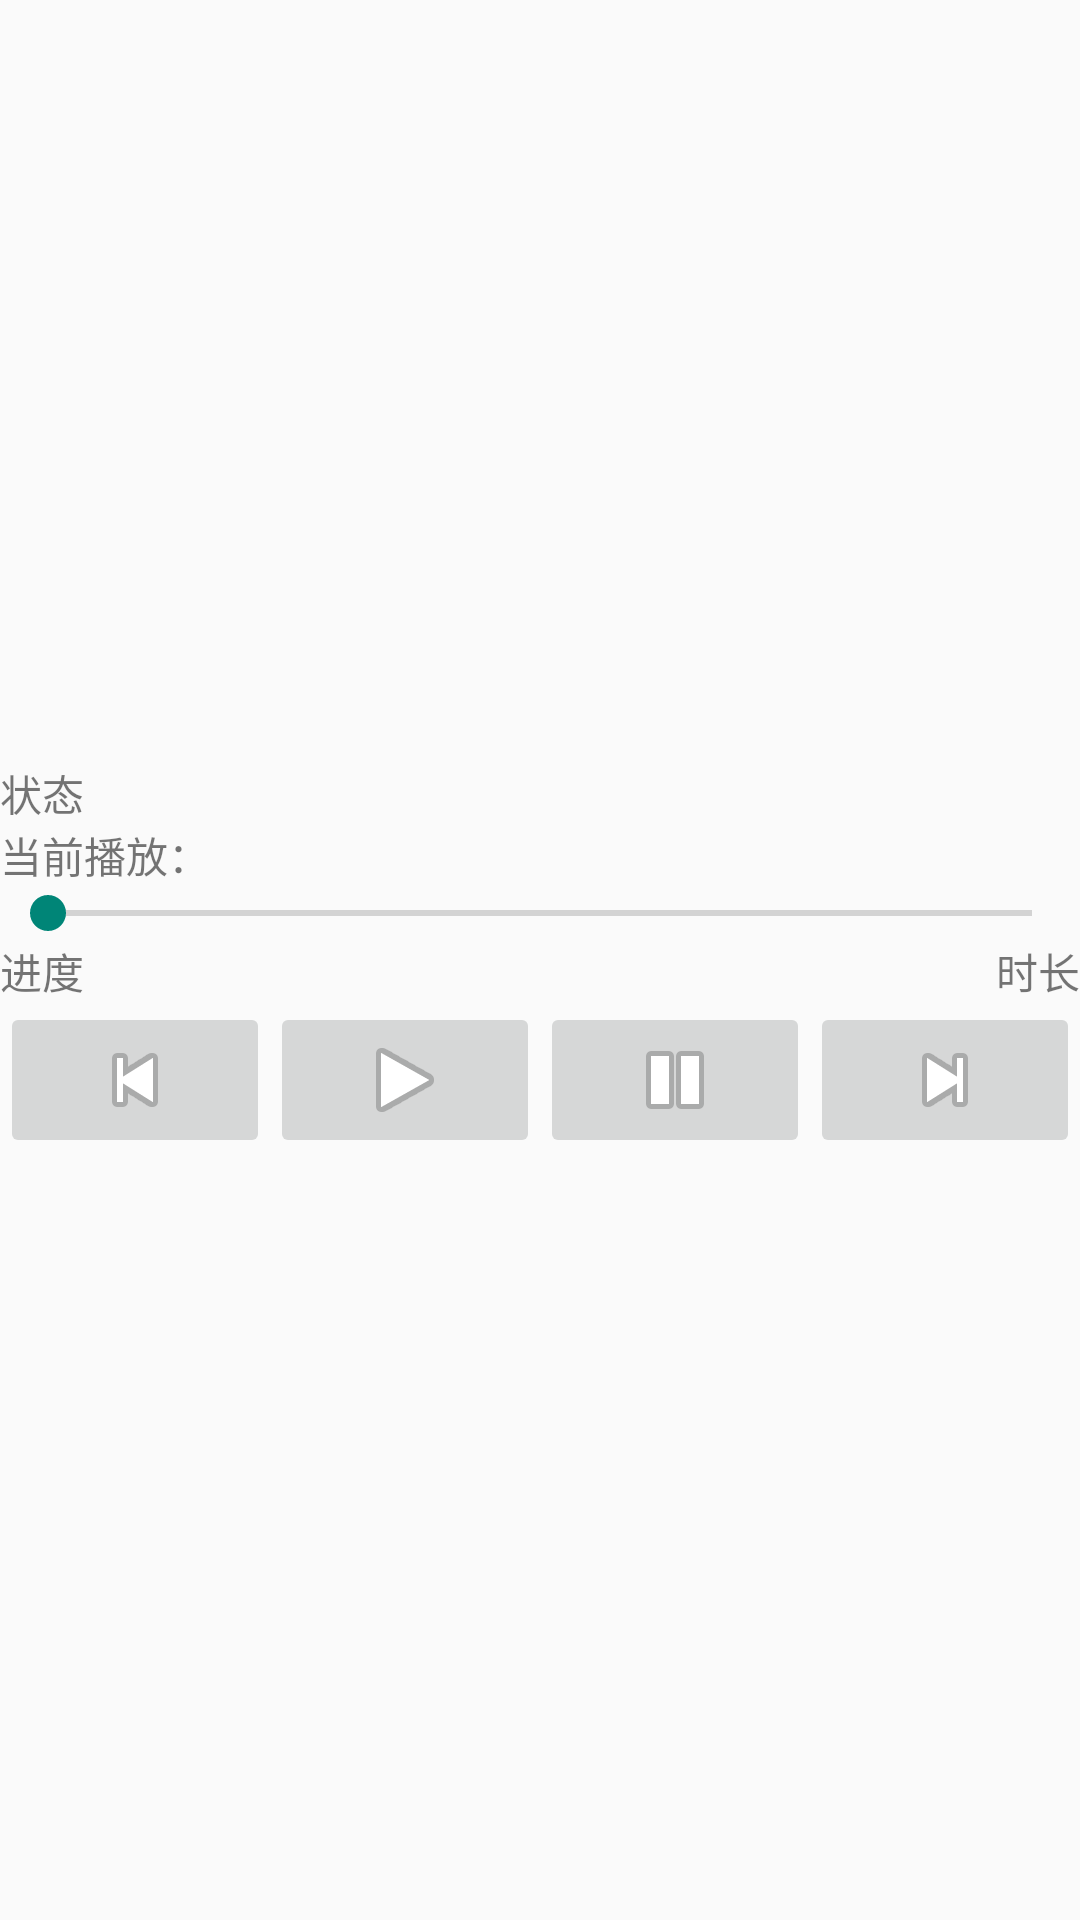

Icons on this 1080*1920 Android screen, each with its box as {"x1": x1, "y1": y1, "x2": x2, "y2": y2}:
next: {"x1": 822, "y1": 1020, "x2": 1068, "y2": 1140}
pause: {"x1": 552, "y1": 1020, "x2": 798, "y2": 1140}
play: {"x1": 282, "y1": 1020, "x2": 528, "y2": 1140}
previous: {"x1": 12, "y1": 1020, "x2": 258, "y2": 1140}
